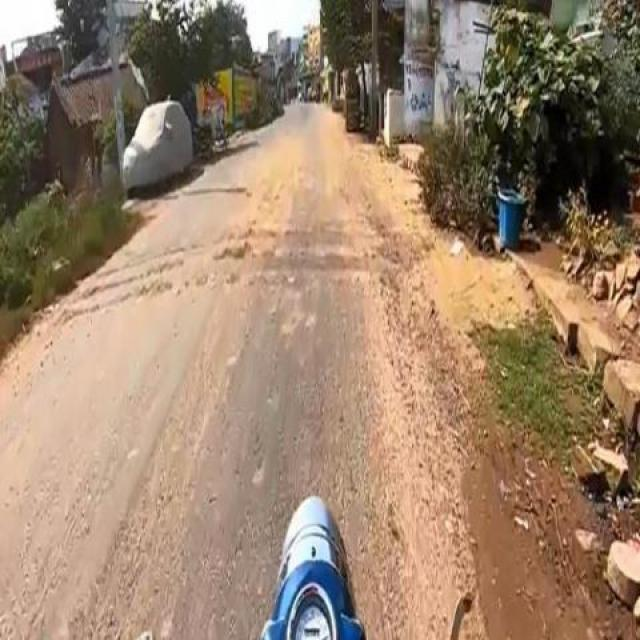Pothole: (177, 178, 247, 211)
Unmarked Bump: (72, 254, 398, 316), (82, 226, 389, 286)
